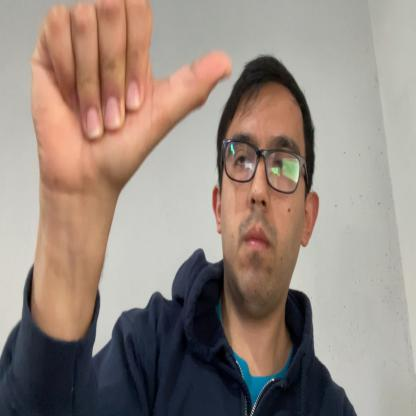A: (29, 0, 233, 191)
